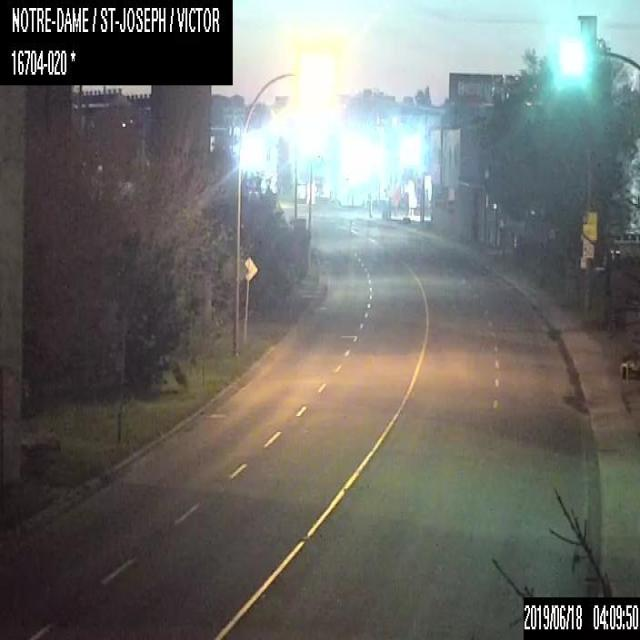construction: (601, 236, 639, 384)
